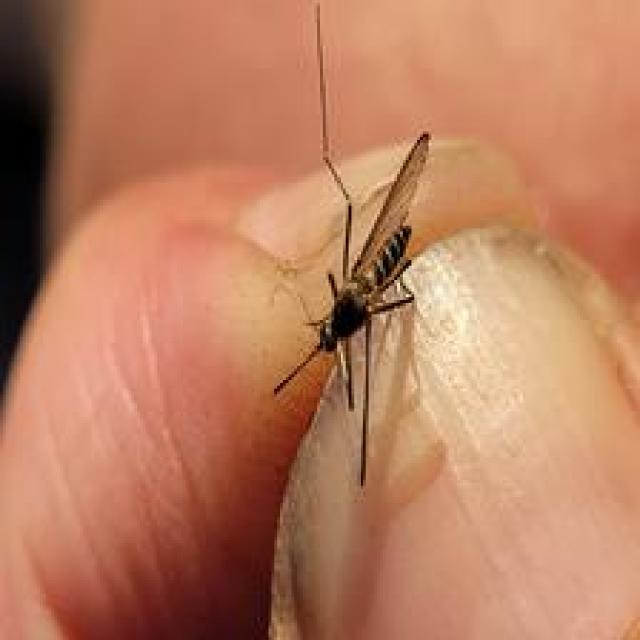Culex: (267, 2, 433, 487)
